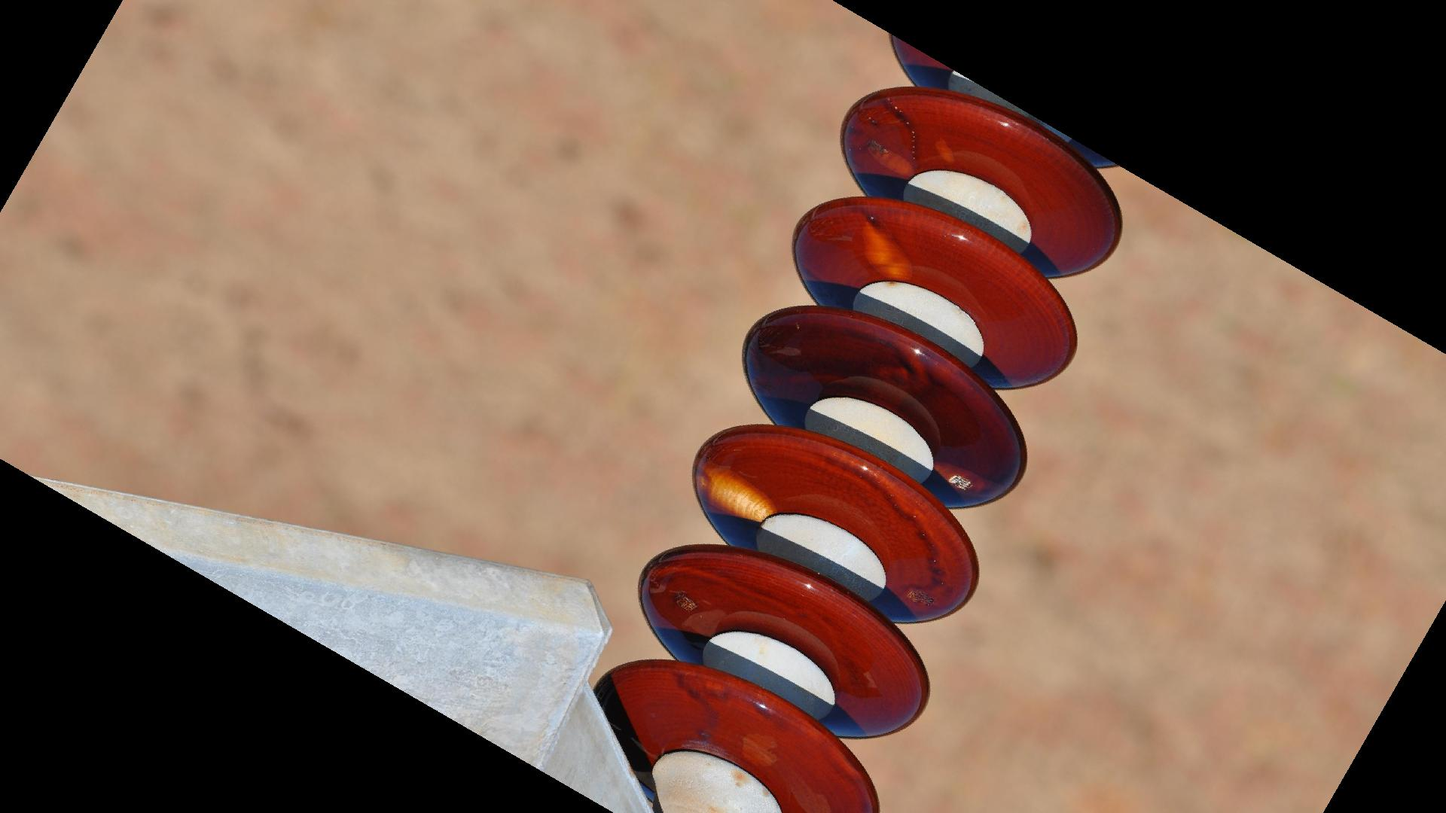insulator: (585, 23, 1134, 813)
insulator_flashover: (691, 459, 777, 527), (859, 218, 917, 285)
